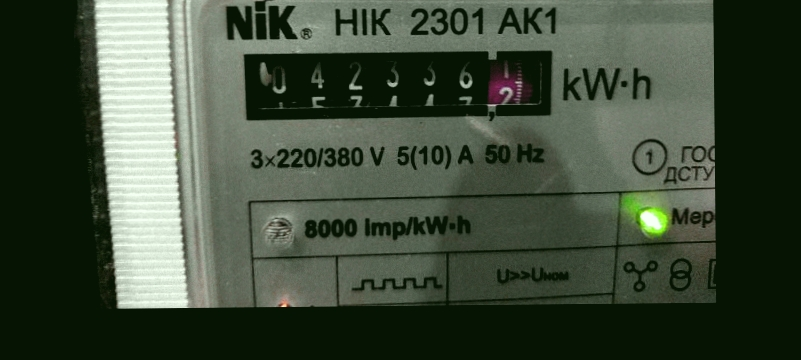0: (268, 62, 287, 95)
1: (498, 54, 510, 80)
2: (344, 57, 365, 92), (495, 85, 512, 106)
3: (381, 56, 399, 88), (420, 56, 437, 88)
4: (308, 58, 325, 90)
6: (455, 57, 475, 91)
screen: (230, 36, 566, 131)
